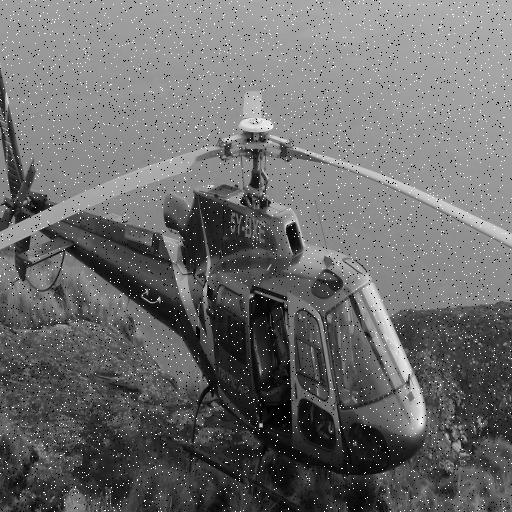helicopter: (1, 57, 512, 512)
